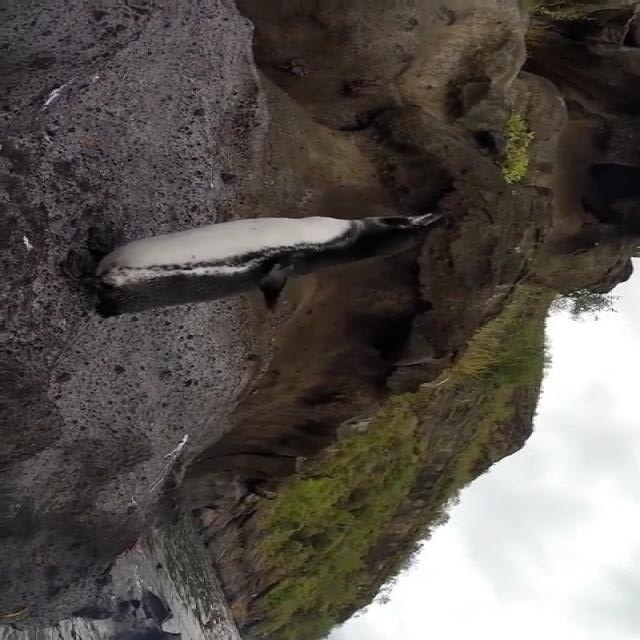penguin: (60, 210, 441, 318)
